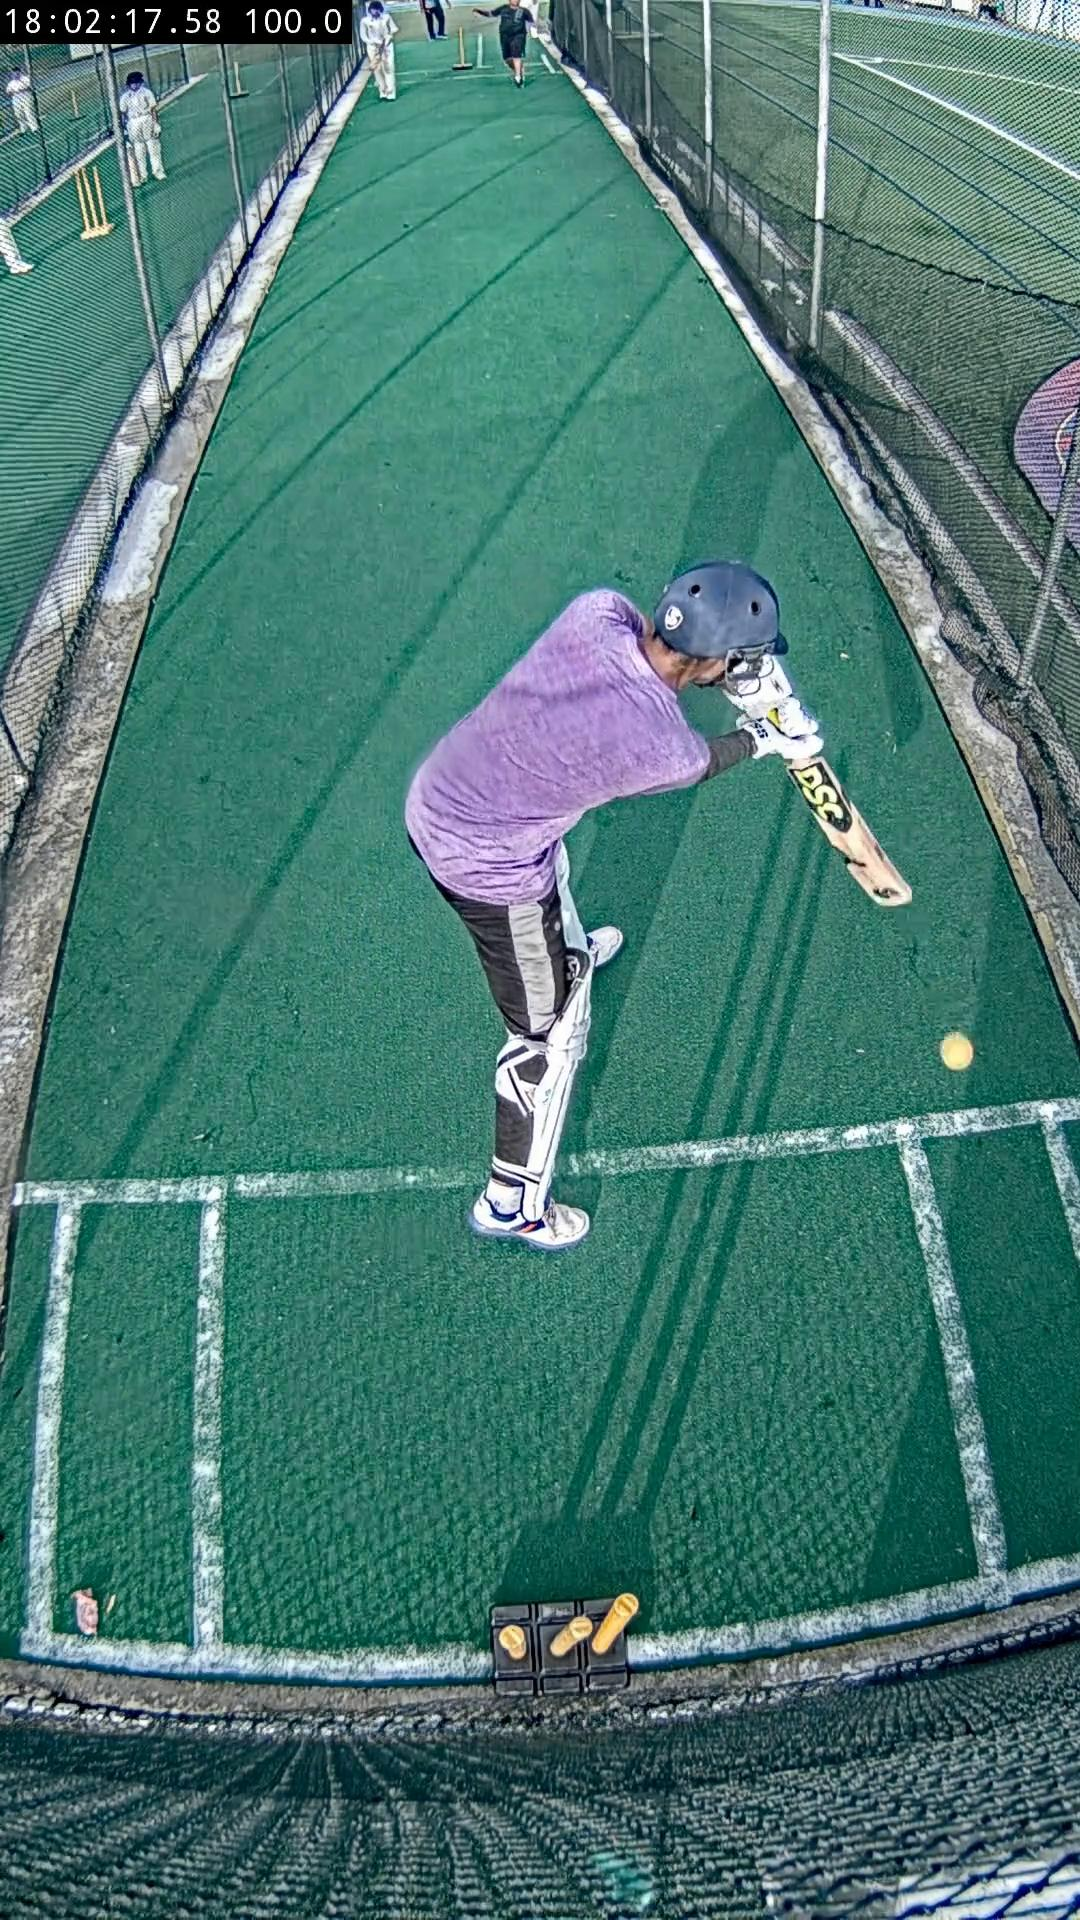ball: (942, 1031, 975, 1071)
bat: (787, 754, 911, 907)
gloves: (720, 653, 822, 761)
helmet: (653, 563, 787, 659)
pads: (521, 952, 592, 1218)
stumps: (492, 1594, 637, 1693)
